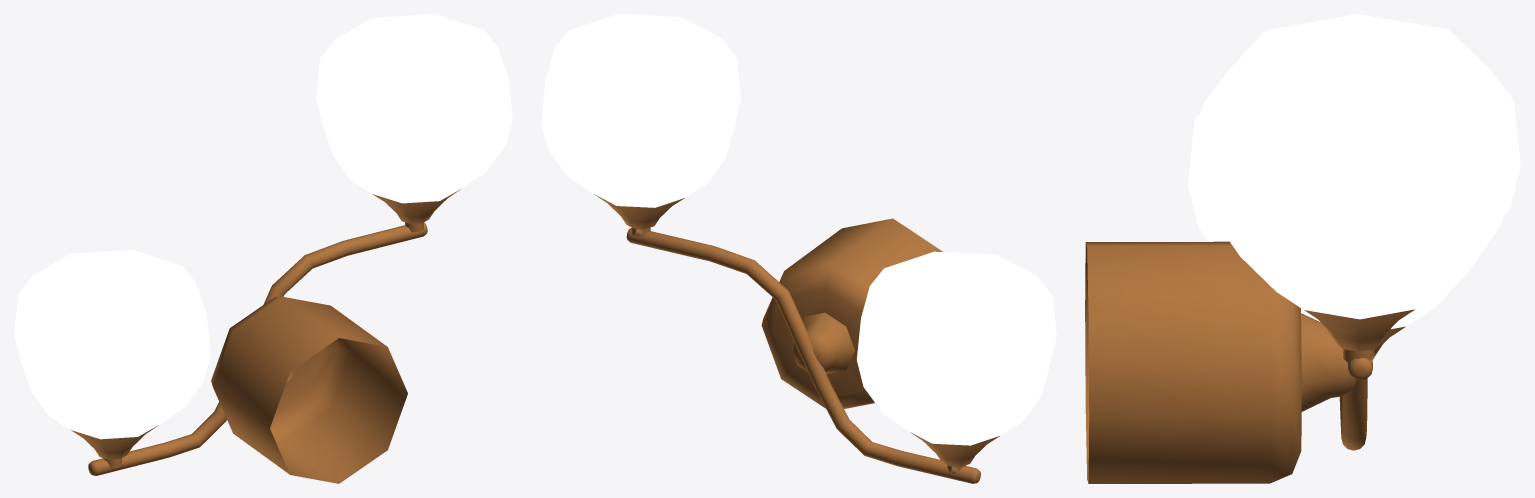
Rendered from Lights_Table_Lamps_5.fbx.
3 renders of one model, left to right at view 1: azimuth 30°, elevation 25°; view 2: azimuth 150°, elevation 25°; view 3: azimuth 270°, elevation 25°, orthographic. The views are drawn at different scales.
Parts seen in each view (by area): view 1: Cylinder.026; view 2: Cylinder.026; view 3: Cylinder.026.
Part boxes in pixels (box(x1,y1,x2,y2)): Cylinder.026: box(14, 14, 512, 483); Cylinder.026: box(541, 14, 1056, 483); Cylinder.026: box(1085, 14, 1520, 483).
Bounding box in the file's own units: 54.09 × 37.41 × 26.59.
